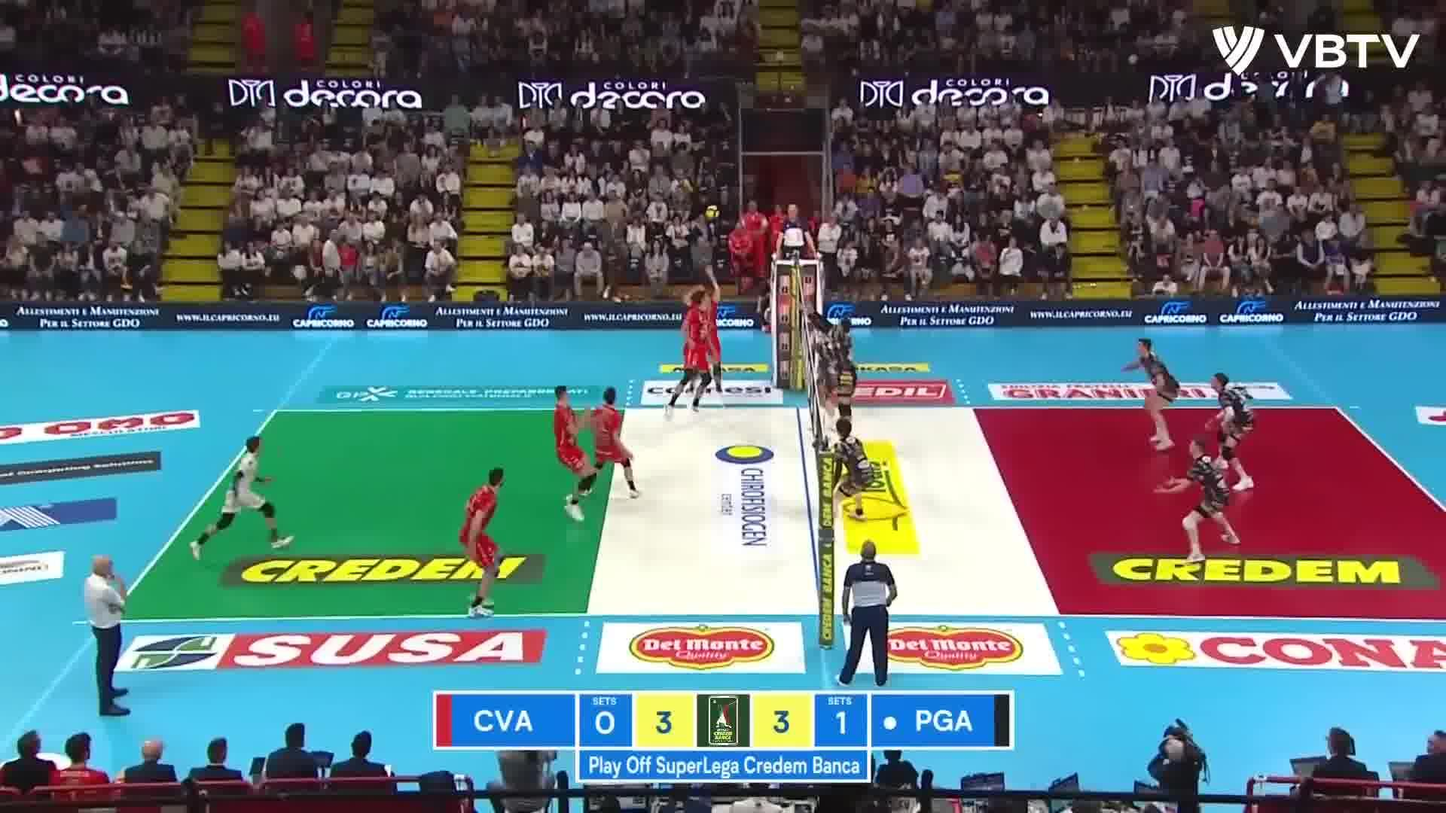balls: (703, 201, 723, 222)
